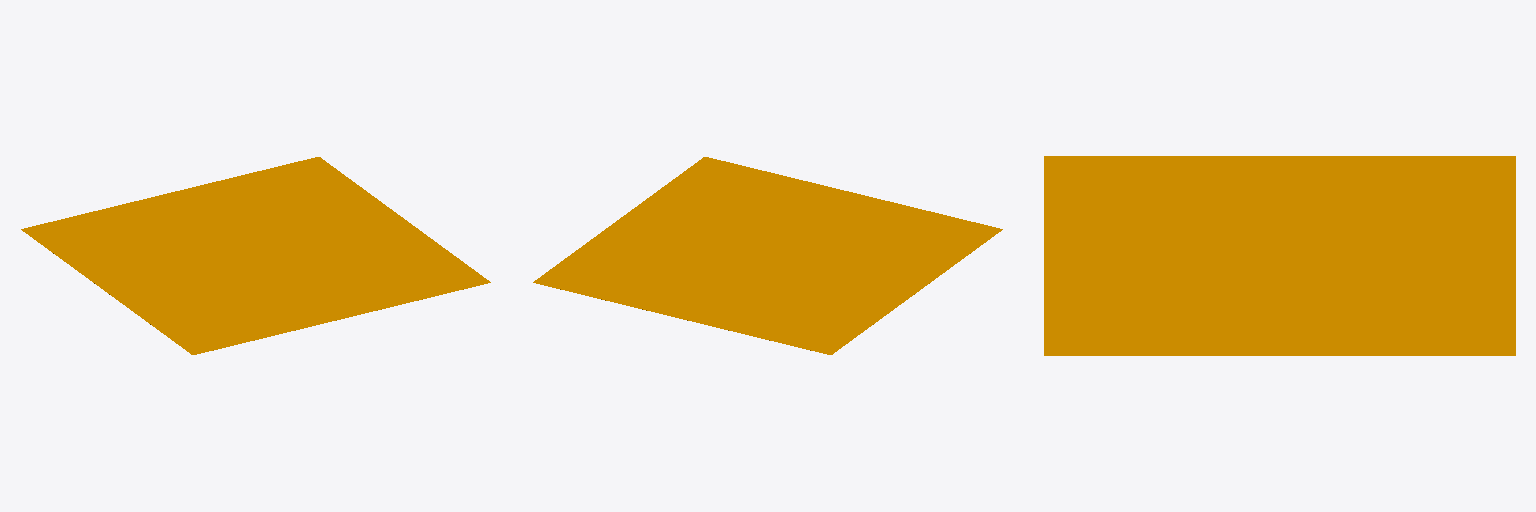
The robot description file, URDF, robot "EXIT":
<?xml version="1.0"?>

<robot name="EXIT">

	<link name="EXIT">
    		<inertial>
      			<origin xyz="1.041 0.779 0" /> 
      			<mass value="10.0" />
      			<inertia  ixx="1.0" ixy="0.0"  ixz="0.0"  iyy="1.0"  iyz="0.0"  izz="1.0" />
    		</inertial>
    		<visual>
      			<origin xyz="1.041 0.779 0"/>
      			<geometry>
        			<box size="1 1 0.0001" />
      			</geometry>
			<material name="surface">
				<texture filename="EXIT.jpg"/>
			</material>
    		</visual>
    		<collision>
      			<origin xyz="1.041 0.779 0"/>
      		<geometry>
        		<box size="1 1 0.0001" />
      		</geometry>
    		</collision>
  	</link>	

</robot>

--- What the picture shows (computed from the rendered views, not written in the file) ---
The picture shows the robot from 3 angles, left to right: view 1: azimuth 30°, elevation 25°; view 2: azimuth 150°, elevation 25°; view 3: azimuth 270°, elevation 25°; orthographic projection.
Model EXIT with 1 links and 0 joints (none), rooted at EXIT, posed every joint at zero.
Links seen in each view (by area): view 1: EXIT; view 2: EXIT; view 3: EXIT.
Boxes of the visible links, bbox=[...] form: EXIT: bbox=[21, 157, 490, 354]; EXIT: bbox=[533, 157, 1002, 354]; EXIT: bbox=[1044, 156, 1515, 355].
Bounding box of the posed robot: 1 × 1 × 0.0001 m (x, y, z).
Geometry: primitives only (box / cylinder / sphere), no mesh files.
